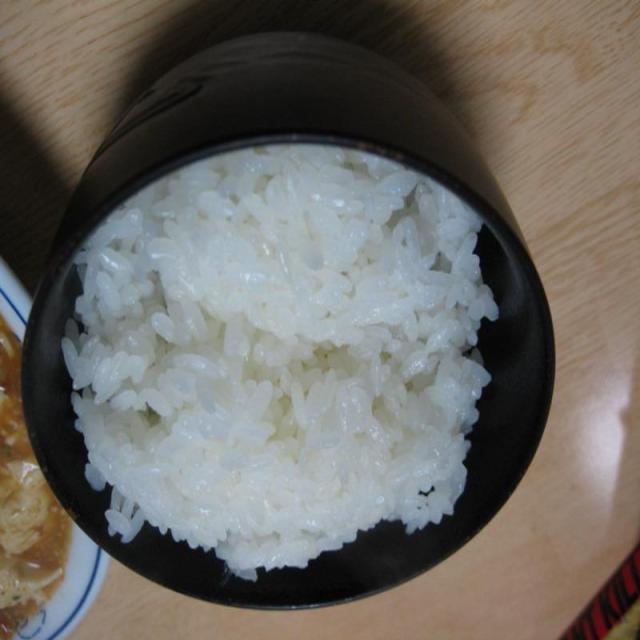nasi_putih: (59, 146, 499, 583)
